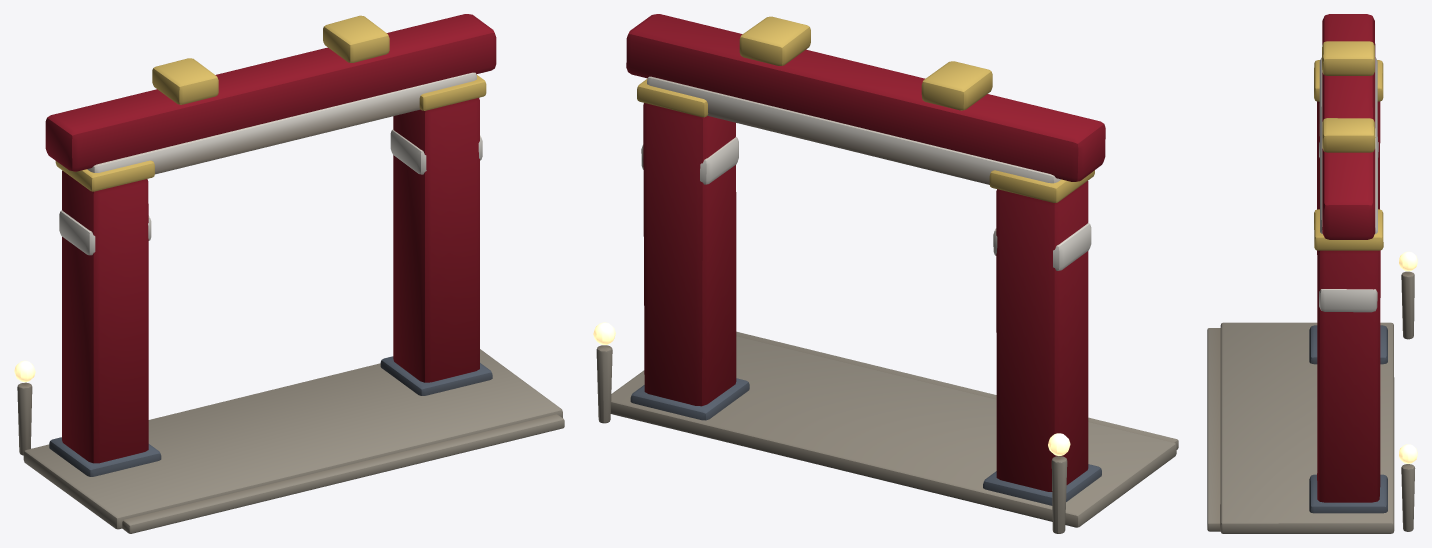
The picture shows the model from 3 angles, left to right: view 1: azimuth 30°, elevation 25°; view 2: azimuth 150°, elevation 25°; view 3: azimuth 270°, elevation 25°; orthographic projection. The views are drawn at different scales.
Visible parts, largest first — view 1: gate_e4b35b2f; view 2: gate_e4b35b2f; view 3: gate_e4b35b2f.
Boxes of the visible parts, x1,y1,x2,y2 form: gate_e4b35b2f: (14,14,564,533); gate_e4b35b2f: (593,14,1178,533); gate_e4b35b2f: (1207,14,1417,533).
Bounding box in the file's own units: 5.77 × 4.64 × 2.55.
